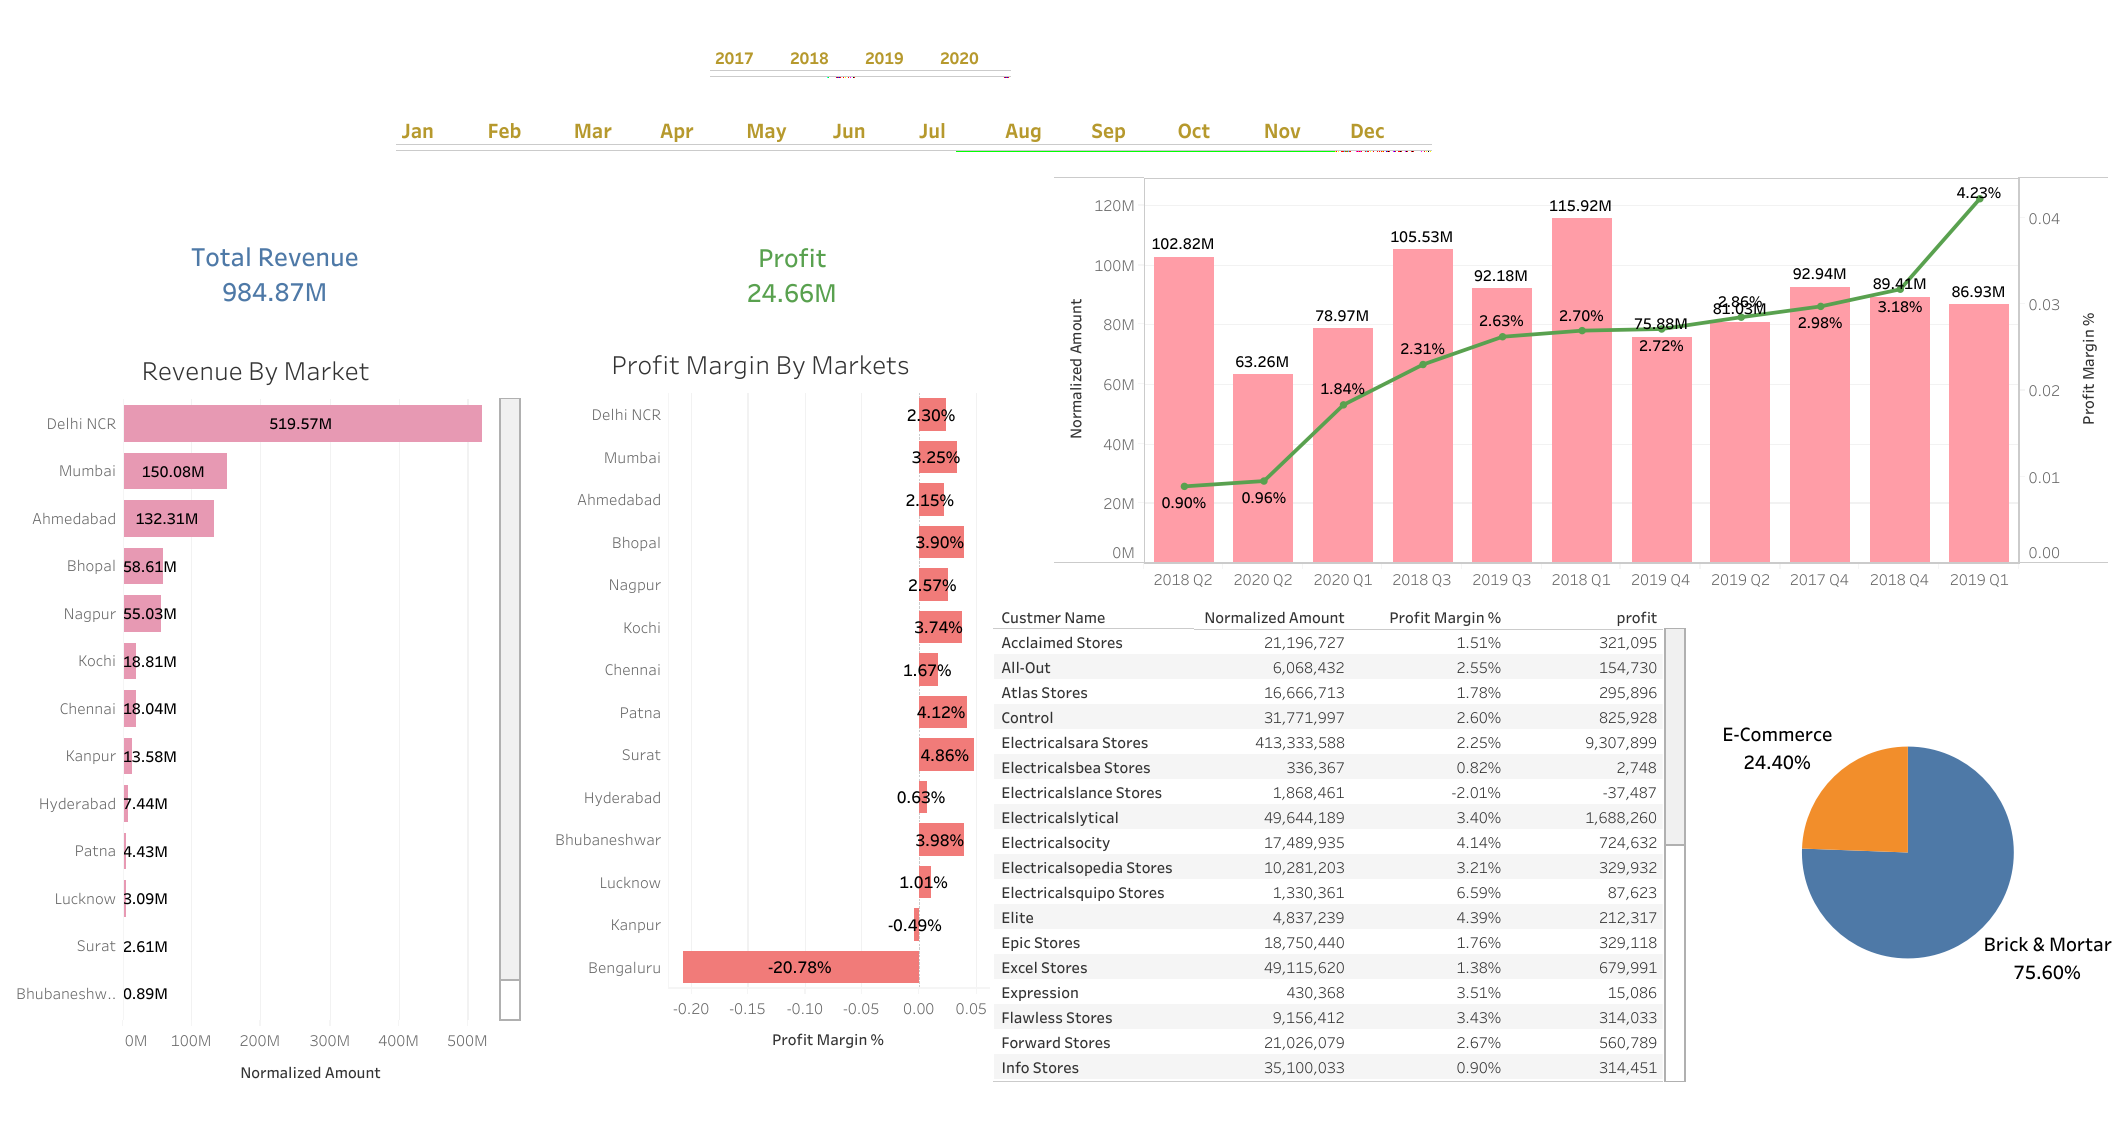

What the dashboard file says about the page in this screenshot:
{"tool":"tableau","page":{"name":"Dashboard - Profit Analysis","canvas":[1700,900],"ordinal":0},"visuals":[{"type":"worksheet","title":"Year","mark":"Automatic","cols":["cy_date"],"box":[567.8,20,292.4,54]},{"type":"worksheet","title":"Month","mark":"Automatic","cols":["cy_date"],"box":[317.3,76,941.8,62]},{"type":"worksheet","title":"Profit Trend ","mark":"Bar","rows":["Calculation_1582452383589834756","Calculation_1939644129356918785"],"cols":["cy_date"],"box":[844.3,127,843.2,346]},{"type":"worksheet","title":"Revenue","mark":"Automatic","box":[140.5,175,230.1,92]},{"type":"worksheet","title":"Profit","mark":"Automatic","box":[546.3,191,218.7,74]},{"type":"worksheet","title":"Profit Margin By Markets","mark":"Automatic","rows":["markets_name"],"cols":["Calculation_1939644129356918785"],"box":[426,271,365,598]},{"type":"worksheet","title":"Revenue By Market","mark":"Automatic","rows":["markets_name"],"cols":["Calculation_1582452383589834756"],"box":[10,276,407,597]},{"type":"worksheet","title":"Customers Table","mark":"Automatic","rows":["custmer_name"],"box":[795,468,557,398]},{"type":"worksheet","title":"Pie  Chart","mark":"Pie","box":[1357,485,339,379]}]}

Visuals, with their boxes in screenshot pixels (x1, y1, x2, y2), scaled from the page's 1700x900 canvas onto the 2125x1125 screenshot:
"Year" worksheet: crop(710, 25, 1075, 92)
"Month" worksheet: crop(397, 95, 1574, 172)
"Profit Trend " worksheet (Bar marks): crop(1055, 159, 2109, 591)
"Revenue" worksheet: crop(176, 219, 463, 334)
"Profit" worksheet: crop(683, 239, 956, 331)
"Profit Margin By Markets" worksheet: crop(532, 339, 989, 1086)
"Revenue By Market" worksheet: crop(12, 345, 521, 1091)
"Customers Table" worksheet: crop(994, 585, 1690, 1082)
"Pie  Chart" worksheet (Pie marks): crop(1696, 606, 2120, 1080)
